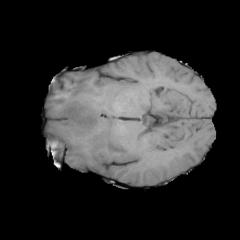glioma: (49, 91, 128, 164)
